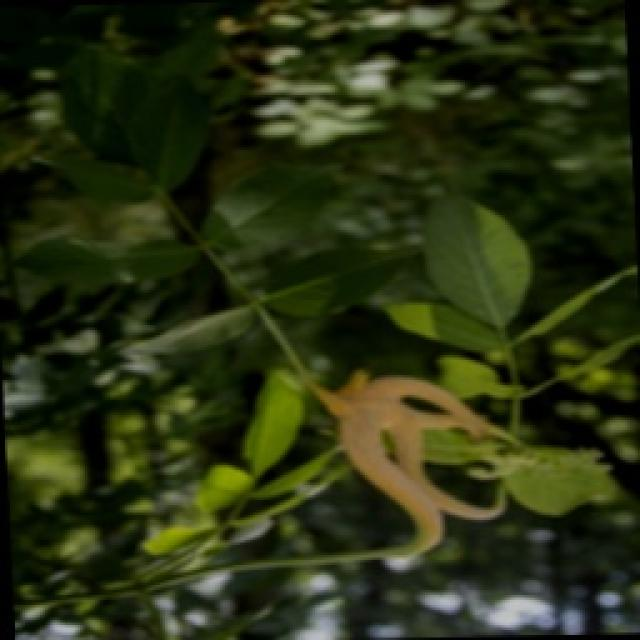Elderberry_rust: (325, 320, 504, 558)
